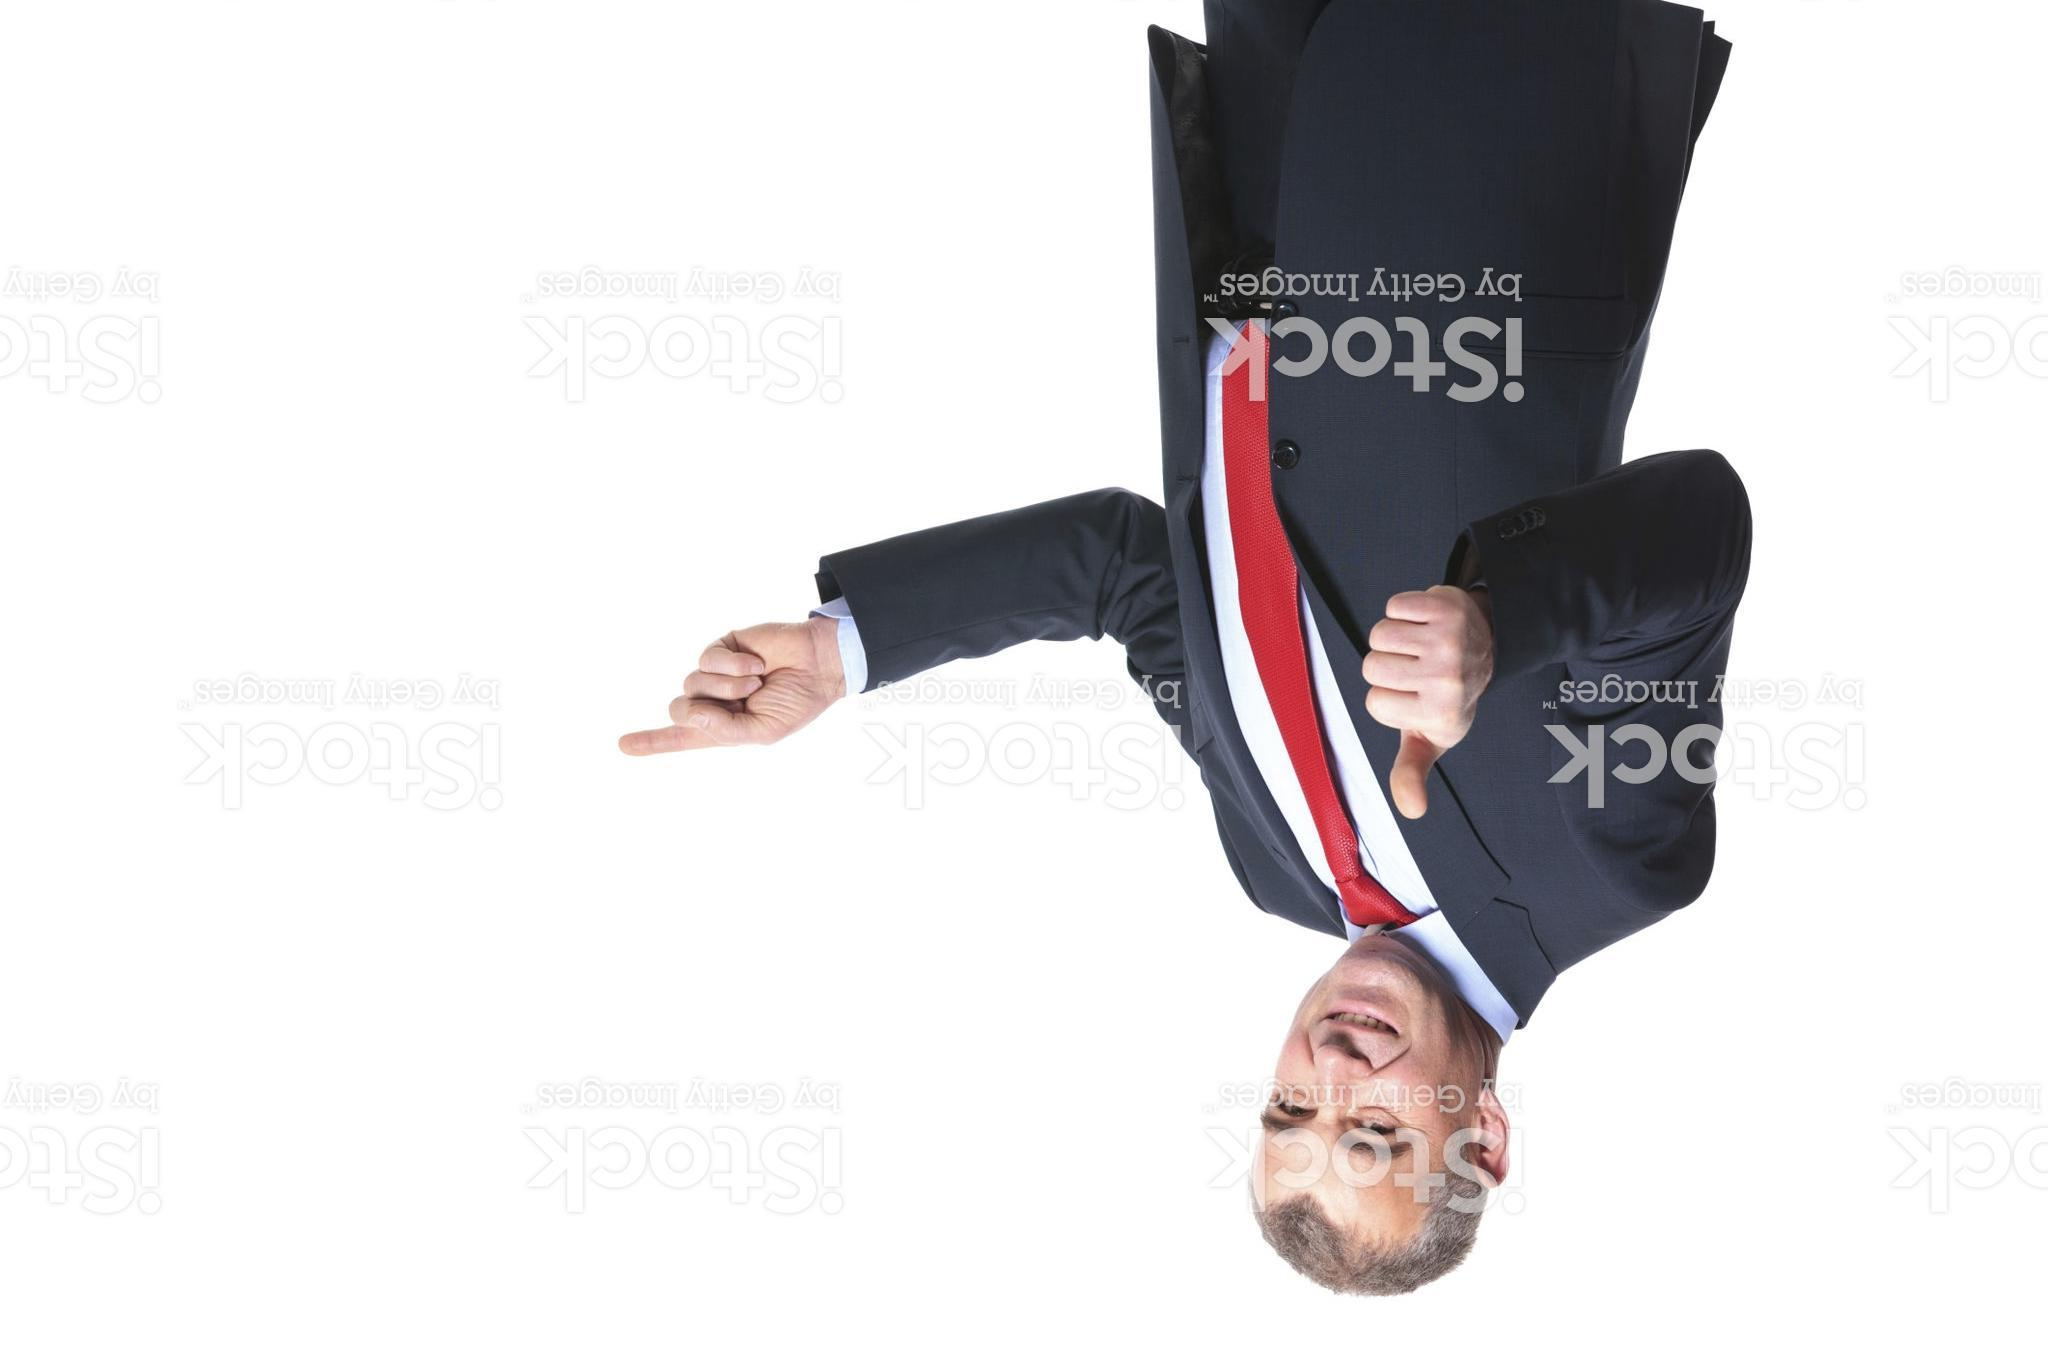thumbsdown: (1361, 579, 1480, 822)
